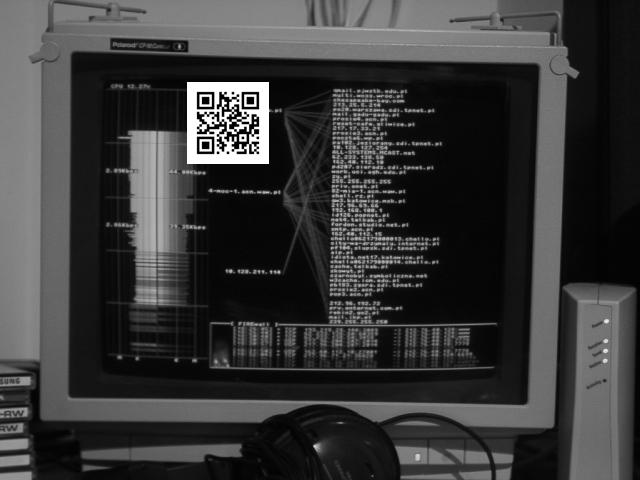qr_code: (186, 81, 269, 163)
